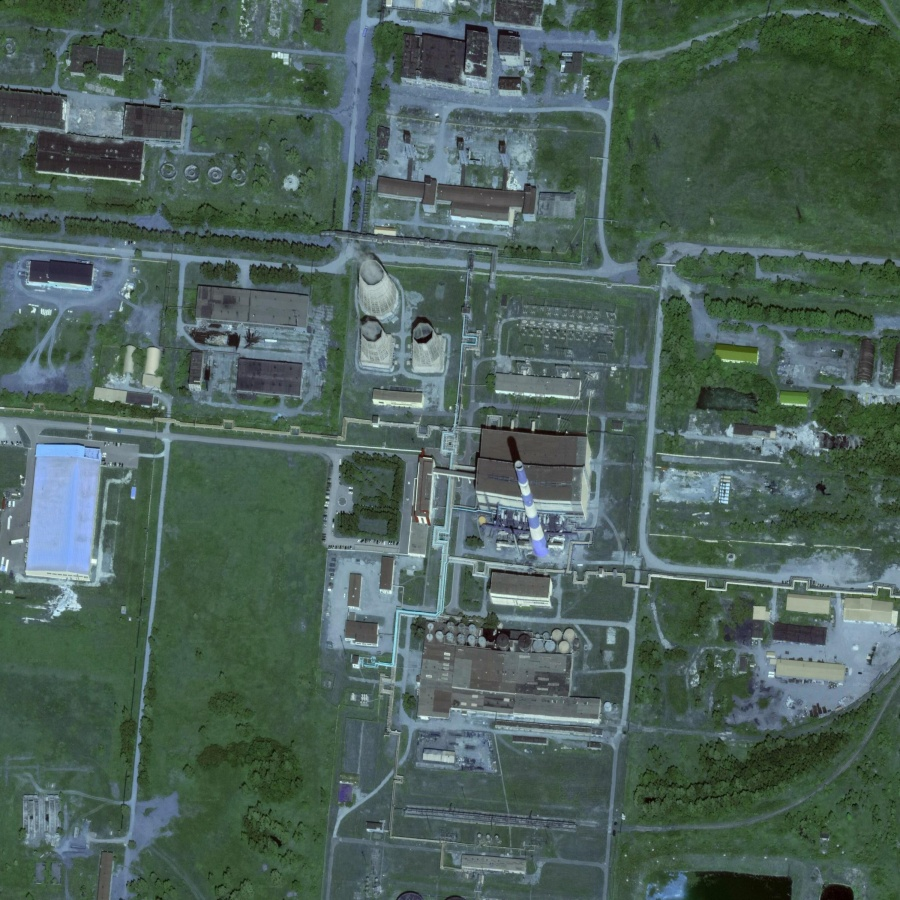PowerPlant: (329, 249, 622, 608)
